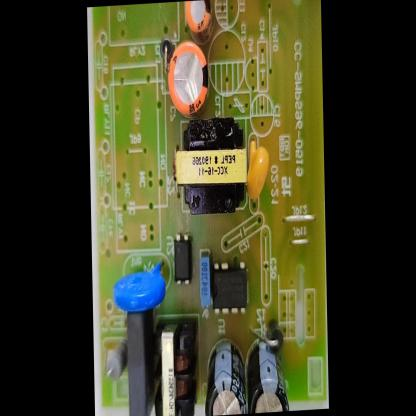Cap1: (166, 37, 213, 119)
Cap2: (183, 0, 216, 35)
Cap3: (202, 335, 248, 416)
Cap4: (244, 332, 293, 414)
MOSFET: (211, 257, 251, 318)
Mov: (110, 259, 171, 316)
Resistor: (103, 334, 129, 389)
Transformer: (173, 112, 250, 219), (150, 322, 202, 416)
